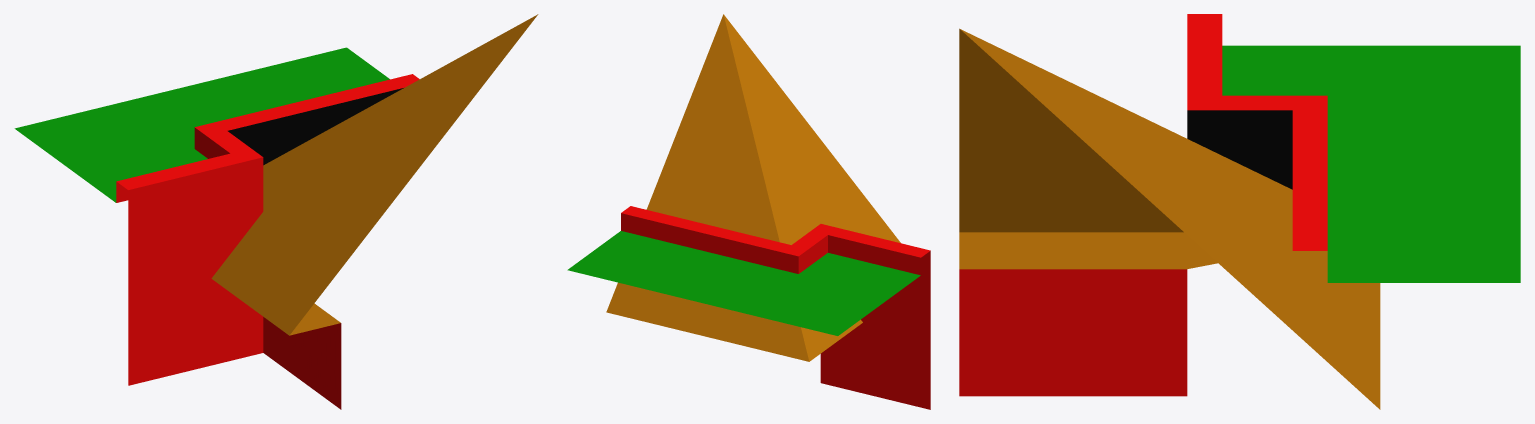
Rendered from polyExtrudeEdge11.fbx.
3 renders of one model, left to right at view 1: azimuth 30°, elevation 25°; view 2: azimuth 150°, elevation 25°; view 3: azimuth 270°, elevation 25°, orthographic. The views are drawn at different scales.
Visible parts, largest first — view 1: None_W_S_E_E_W_E_E_E_None; view 2: None_W_S_E_E_W_E_E_E_None; view 3: None_W_S_E_E_W_E_E_E_None.
Part boxes in pixels (x1=…): None_W_S_E_E_W_E_E_E_None: x1=14, y1=14, x2=538, y2=409; None_W_S_E_E_W_E_E_E_None: x1=567, y1=14, x2=930, y2=409; None_W_S_E_E_W_E_E_E_None: x1=959, y1=14, x2=1520, y2=409.
Bounding box in the file's own units: 100 × 100 × 100.
